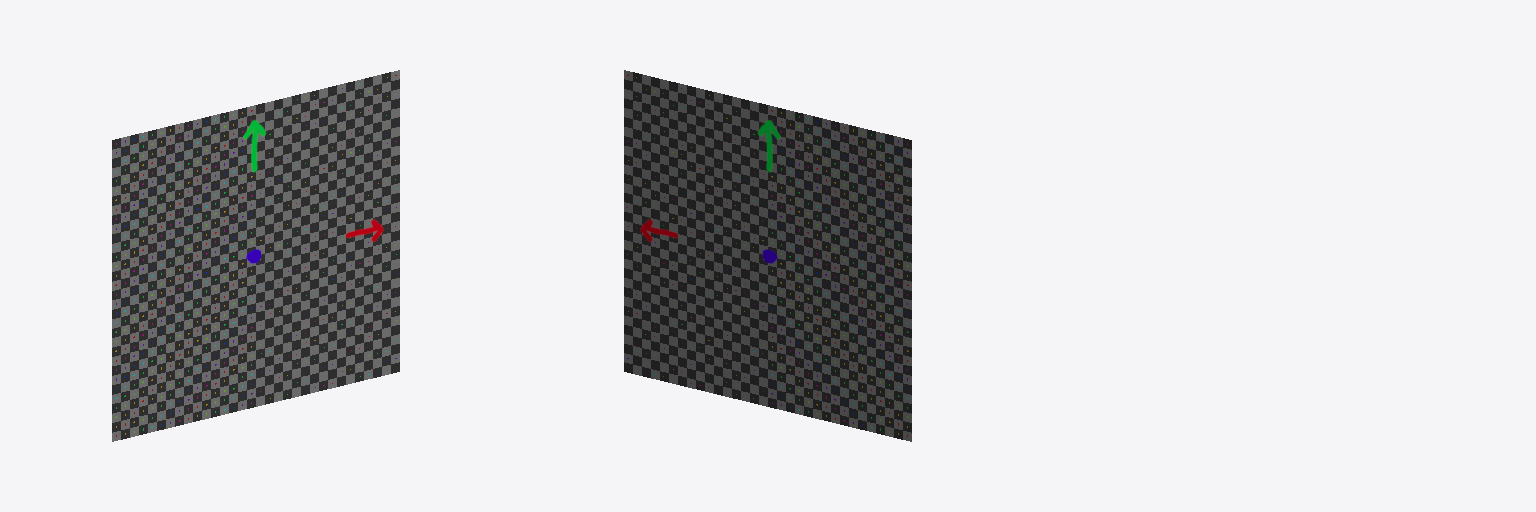
3 renders of one model, left to right at view 1: azimuth 30°, elevation 25°; view 2: azimuth 150°, elevation 25°; view 3: azimuth 270°, elevation 25°, orthographic.
Parts seen in each view (by area): view 1: Plane_Plane.001; view 2: Plane_Plane.001; view 3: none.
Boxes of the visible parts, x1,y1,x2,y2 form: Plane_Plane.001: [112, 70, 399, 441]; Plane_Plane.001: [624, 70, 911, 441].
Size of the model in its own units: 2 by 2 by 0.
Materials: 1 (1 with a texture image).